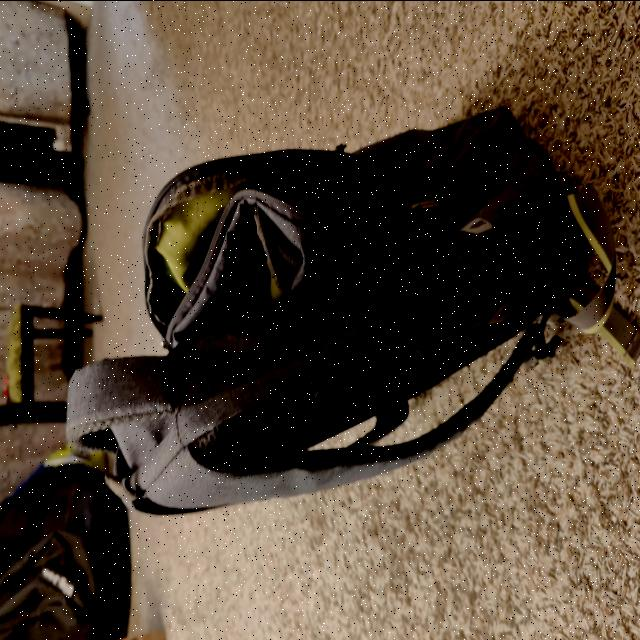bag: (148, 166, 550, 496)
